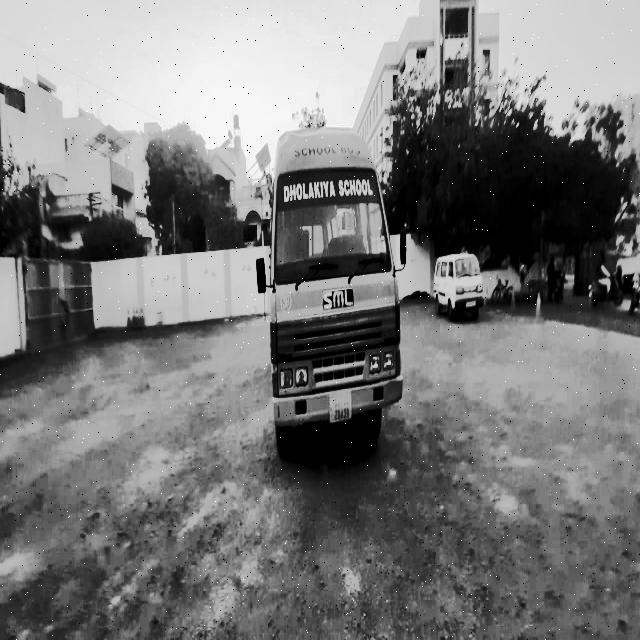Bus: (252, 113, 412, 487)
